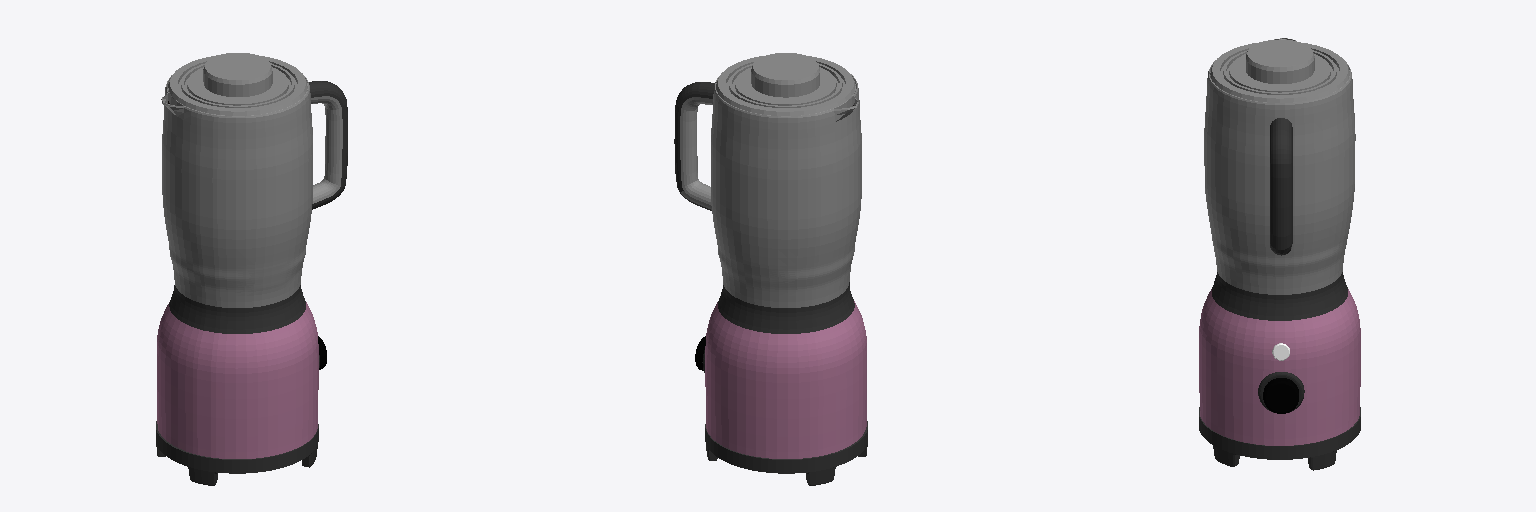
File: Blender_1304.obj
3 views of the same model, side by side, from view 1: azimuth 30°, elevation 25°; view 2: azimuth 150°, elevation 25°; view 3: azimuth 270°, elevation 25° (orthographic).
Parts seen in each view (by area): view 1: Star001; view 2: Star001; view 3: Star001.
Boxes of the visible parts, box(x1,y1,x2,y2) form: Star001: box(156, 53, 347, 485); Star001: box(674, 53, 867, 485); Star001: box(1199, 38, 1360, 470).
Size of the model in its own units: 133 by 269 by 103.